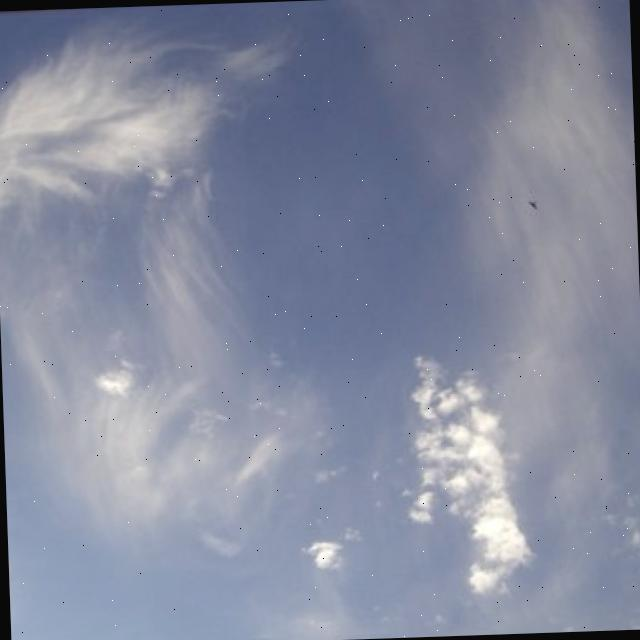Ci: (1, 25, 640, 607)
